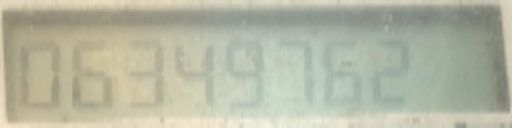0: (16, 28, 68, 112)
2: (373, 21, 414, 114)
3: (123, 30, 171, 114)
4: (162, 37, 218, 114)
6: (71, 30, 125, 119), (325, 28, 373, 114)
7: (275, 33, 321, 105)
9: (221, 33, 271, 110)
d: (265, 88, 292, 115)
